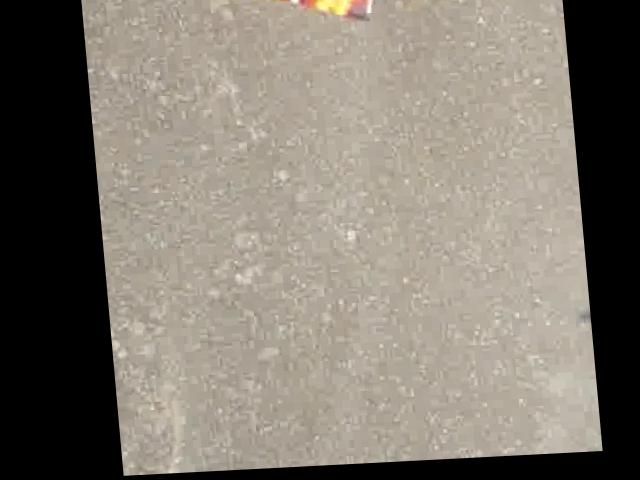fire-poster: (194, 0, 402, 25)
